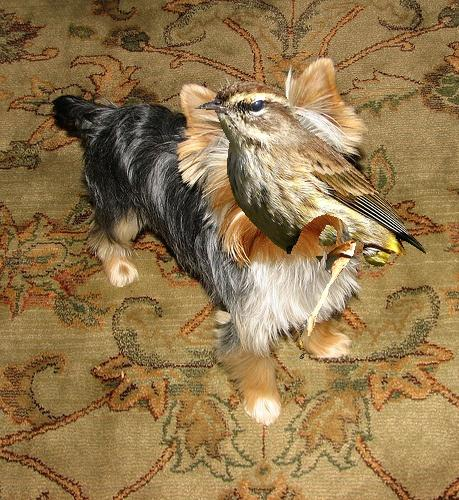tampered: (195, 82, 426, 359)
